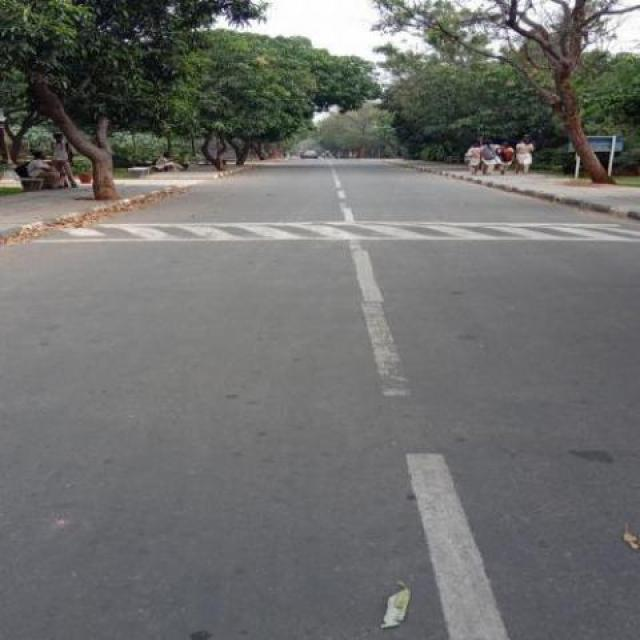Speed Bump: (30, 218, 638, 242)
